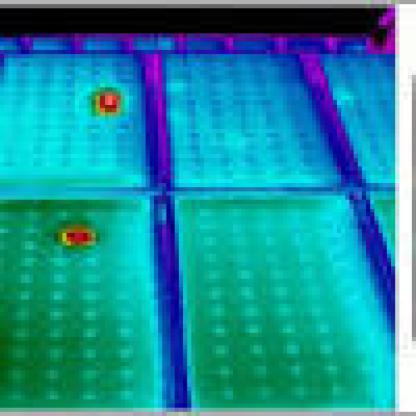Defects: (62, 228, 96, 249), (96, 88, 121, 112)
